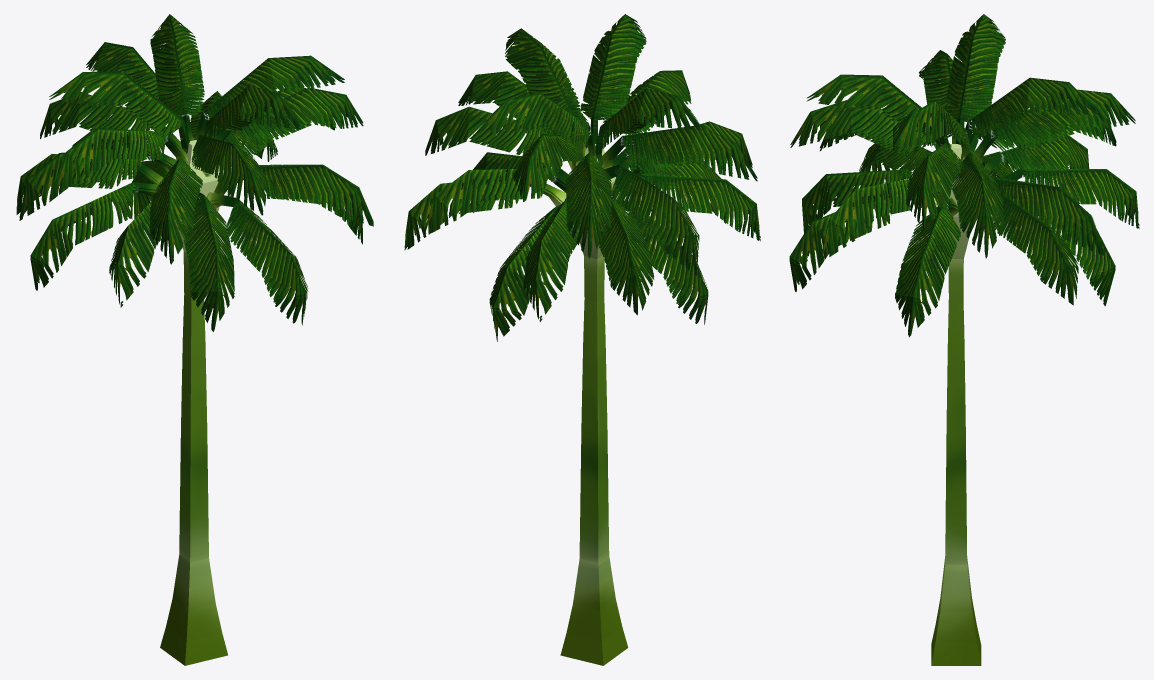
File: PalmTreeFullTextured 1.obj
3 views of the same model, side by side, from view 1: azimuth 30°, elevation 25°; view 2: azimuth 150°, elevation 25°; view 3: azimuth 270°, elevation 25° (orthographic).
Parts seen in each view (by area): view 1: PalmTree:PalmTree PalmTree:pCube4 polySurface2, PalmTree:PalmTree PalmTree:pCube1 polySurface2, PalmTree:PalmTree PalmTree:pCube12 polySurface2, PalmTree:PalmTree PalmTree:pCube8 polySurface2, PalmTree:PalmTree PalmTree:pCube11 polySurface2, PalmTree:PalmTree PalmTree:pCube14 polySurface2, PalmTree:PalmTree PalmTree:pCube9 polySurface2, PalmTree:PalmTree PalmTree:pCube15 polySurface2, PalmTree:PalmTree PalmTree:pCube6 polySurface2, PalmTree:PalmTree PalmTree:pCube7 polySurface2, PalmTree:PalmTree PalmTree:pCube10 polySurface2, PalmTree:PalmTree PalmTree:pCube5 polySurface2; view 2: PalmTree:PalmTree PalmTree:pCube4 polySurface2, PalmTree:PalmTree PalmTree:pCube1 polySurface2, PalmTree:PalmTree PalmTree:pCube6 polySurface2, PalmTree:PalmTree PalmTree:pCube14 polySurface2, PalmTree:PalmTree PalmTree:pCube5 polySurface2, PalmTree:PalmTree PalmTree:pCube10 polySurface2, PalmTree:PalmTree PalmTree:pCube8 polySurface2, PalmTree:PalmTree PalmTree:pCube9 polySurface2, PalmTree:PalmTree PalmTree:pCube7 polySurface2, PalmTree:PalmTree PalmTree:pCube11 polySurface2, PalmTree:PalmTree PalmTree:pCube12 polySurface2, PalmTree:PalmTree PalmTree:pCube15 polySurface2 (+1 smaller); view 3: PalmTree:PalmTree PalmTree:pCube4 polySurface2, PalmTree:PalmTree PalmTree:pCube1 polySurface2, PalmTree:PalmTree PalmTree:pCube12 polySurface2, PalmTree:PalmTree PalmTree:pCube8 polySurface2, PalmTree:PalmTree PalmTree:pCube7 polySurface2, PalmTree:PalmTree PalmTree:pCube10 polySurface2, PalmTree:PalmTree PalmTree:pCube5 polySurface2, PalmTree:PalmTree PalmTree:pCube9 polySurface2, PalmTree:PalmTree PalmTree:pCube11 polySurface2, PalmTree:PalmTree PalmTree:pCube6 polySurface2, PalmTree:PalmTree PalmTree:pCube14 polySurface2, PalmTree:PalmTree PalmTree:pCube15 polySurface2 (+1 smaller).
Part boxes in pixels (x1,y1,x2,y2): PalmTree:PalmTree PalmTree:pCube4 polySurface2: (16,14,373,331); PalmTree:PalmTree PalmTree:pCube1 polySurface2: (160,140,227,665); PalmTree:PalmTree PalmTree:pCube12 polySurface2: (181,176,362,328); PalmTree:PalmTree PalmTree:pCube8 polySurface2: (49,71,300,176); PalmTree:PalmTree PalmTree:pCube11 polySurface2: (191,97,363,212); PalmTree:PalmTree PalmTree:pCube14 polySurface2: (150,21,344,140); PalmTree:PalmTree PalmTree:pCube9 polySurface2: (51,42,193,193); PalmTree:PalmTree PalmTree:pCube15 polySurface2: (19,149,202,264); PalmTree:PalmTree PalmTree:pCube6 polySurface2: (16,131,277,211); PalmTree:PalmTree PalmTree:pCube7 polySurface2: (190,91,373,226); PalmTree:PalmTree PalmTree:pCube10 polySurface2: (40,85,331,140); PalmTree:PalmTree PalmTree:pCube5 polySurface2: (72,131,183,307); PalmTree:PalmTree PalmTree:pCube4 polySurface2: (404,14,760,328); PalmTree:PalmTree PalmTree:pCube1 polySurface2: (560,144,628,665); PalmTree:PalmTree PalmTree:pCube6 polySurface2: (404,182,654,312); PalmTree:PalmTree PalmTree:pCube14 polySurface2: (478,28,595,156); PalmTree:PalmTree PalmTree:pCube5 polySurface2: (523,176,760,319); PalmTree:PalmTree PalmTree:pCube10 polySurface2: (425,106,611,258); PalmTree:PalmTree PalmTree:pCube8 polySurface2: (581,23,701,169); PalmTree:PalmTree PalmTree:pCube9 polySurface2: (513,131,757,198); PalmTree:PalmTree PalmTree:pCube7 polySurface2: (423,118,586,233); PalmTree:PalmTree PalmTree:pCube11 polySurface2: (458,70,690,147); PalmTree:PalmTree PalmTree:pCube12 polySurface2: (473,152,725,219); PalmTree:PalmTree PalmTree:pCube15 polySurface2: (605,140,752,275); PalmTree:PalmTree PalmTree:pCube4 polySurface2: (789,22,1139,337); PalmTree:PalmTree PalmTree:pCube1 polySurface2: (931,144,981,665); PalmTree:PalmTree PalmTree:pCube12 polySurface2: (802,169,960,333); PalmTree:PalmTree PalmTree:pCube8 polySurface2: (806,14,1005,145); PalmTree:PalmTree PalmTree:pCube7 polySurface2: (821,177,1103,258); PalmTree:PalmTree PalmTree:pCube10 polySurface2: (952,120,1116,255); PalmTree:PalmTree PalmTree:pCube5 polySurface2: (859,144,1139,225); PalmTree:PalmTree PalmTree:pCube9 polySurface2: (919,57,1135,159); PalmTree:PalmTree PalmTree:pCube11 polySurface2: (790,100,962,229); PalmTree:PalmTree PalmTree:pCube6 polySurface2: (983,135,1089,305); PalmTree:PalmTree PalmTree:pCube14 polySurface2: (893,87,1098,162); PalmTree:PalmTree PalmTree:pCube15 polySurface2: (820,125,1013,156).
Size of the model in its own units: 17.63 by 32.22 by 17.21.
